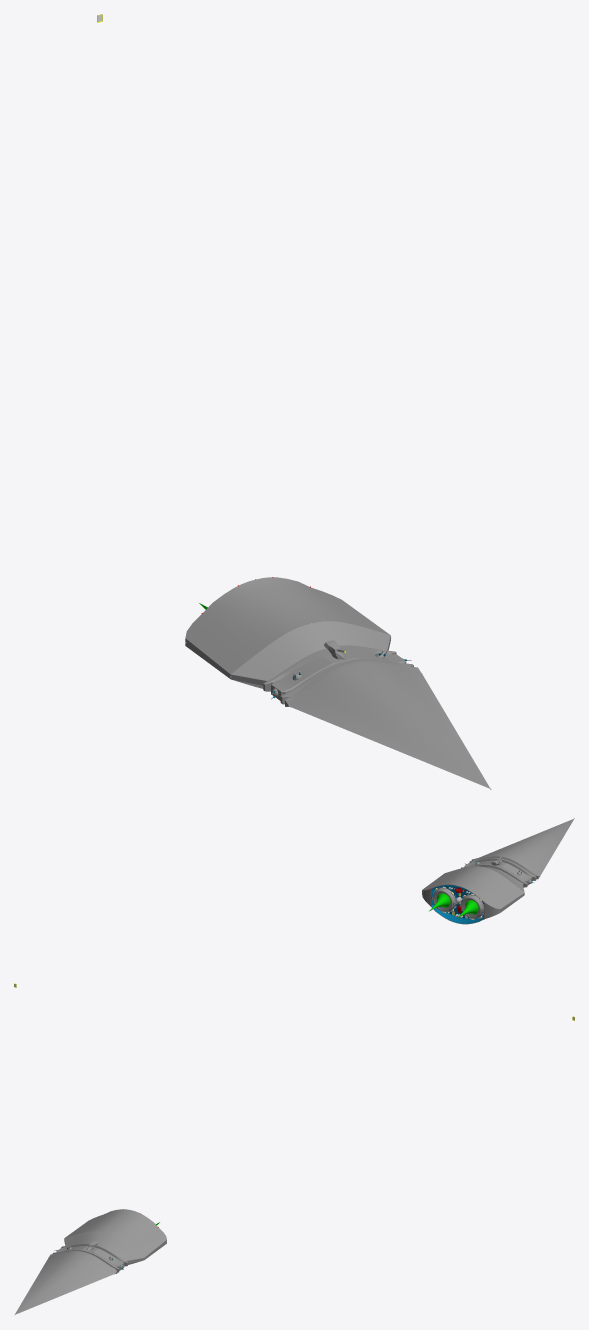
Rendered from Cruiser.fbx.
3 renders of one model, top to bottom at view 1: azimuth 30°, elevation 25°; view 2: azimuth 150°, elevation 25°; view 3: azimuth 330°, elevation 25°, orthographic. The views are drawn at different scales.
Parts seen in each view (by area): view 1: Gunboat; view 2: Gunboat; view 3: Gunboat.
Boxes of the visible parts, <box> form: Gunboat: <box>97,14,491,789</box>; Gunboat: <box>14,818,574,987</box>; Gunboat: <box>14,1016,574,1315</box>.
Size of the model in its own units: 19756 by 7231 by 57791.
